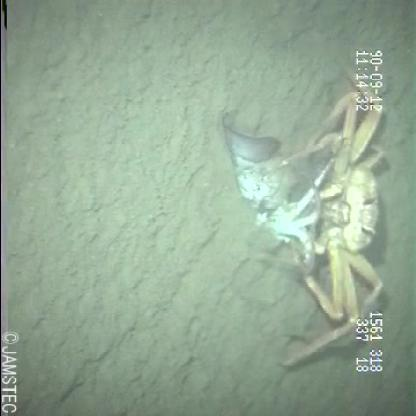Bio: (215, 53, 392, 373)
